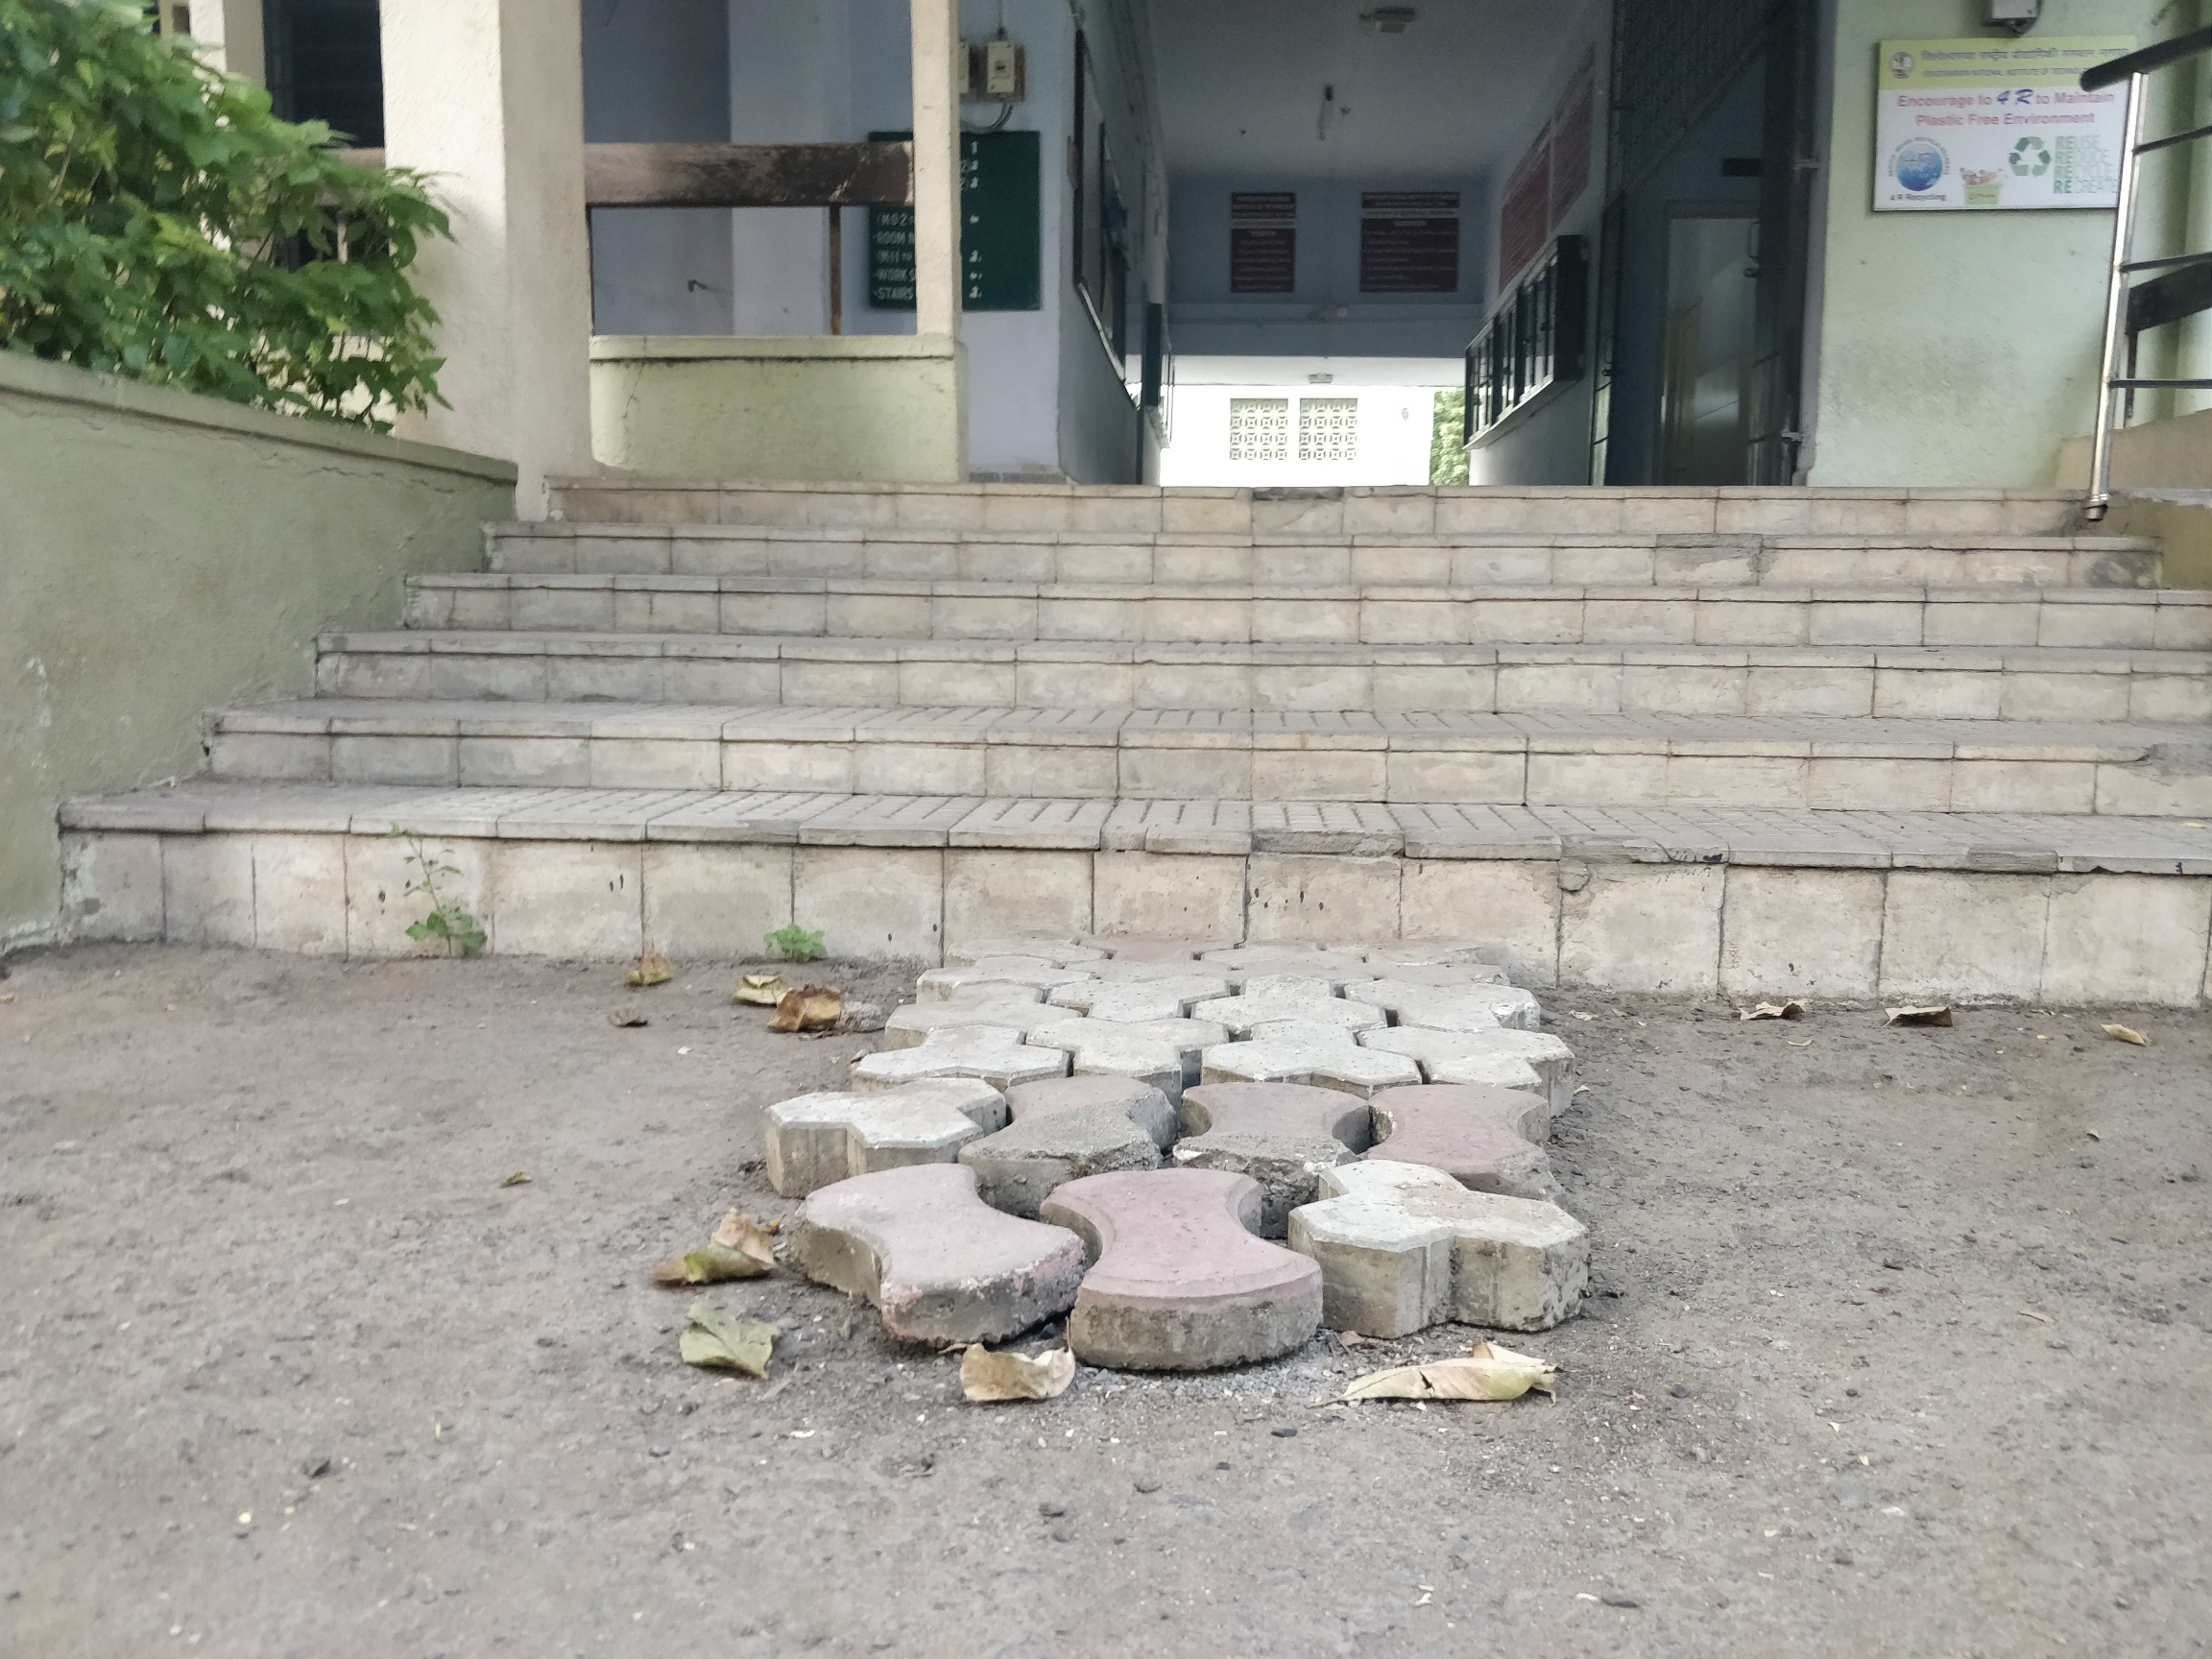stairs_up: (37, 469, 2156, 1046)
